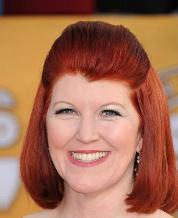face: (54, 102, 122, 168)
